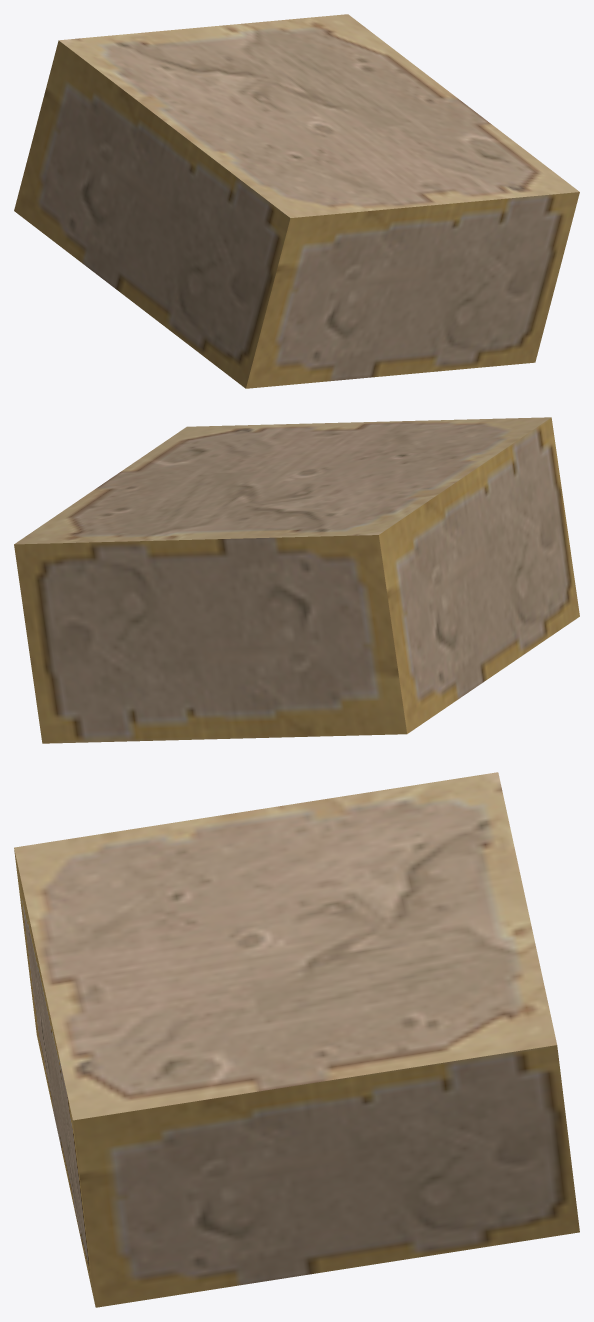
The model's file is Desert_Item_1.fbx.
3 views of the same model, one above another, from view 1: azimuth 30°, elevation 25°; view 2: azimuth 150°, elevation 25°; view 3: azimuth 270°, elevation 25° (orthographic). The views are drawn at different scales.
Parts seen in each view (by area): view 1: Desert_Item_1; view 2: Desert_Item_1; view 3: Desert_Item_1.
Part boxes in pixels (<box>): Desert_Item_1: <box>14,14,579,388</box>; Desert_Item_1: <box>14,417,579,743</box>; Desert_Item_1: <box>14,772,579,1307</box>.
Bounding box in the file's own units: 0.9927 × 0.6898 × 1.02.
Materials: 1 (1 with a texture image).
